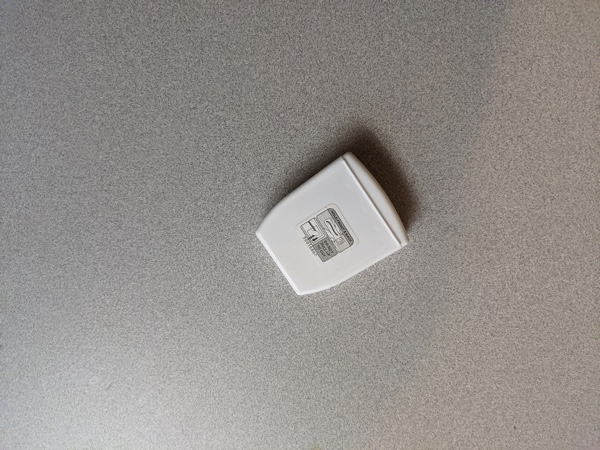plastic: (245, 142, 437, 315)
